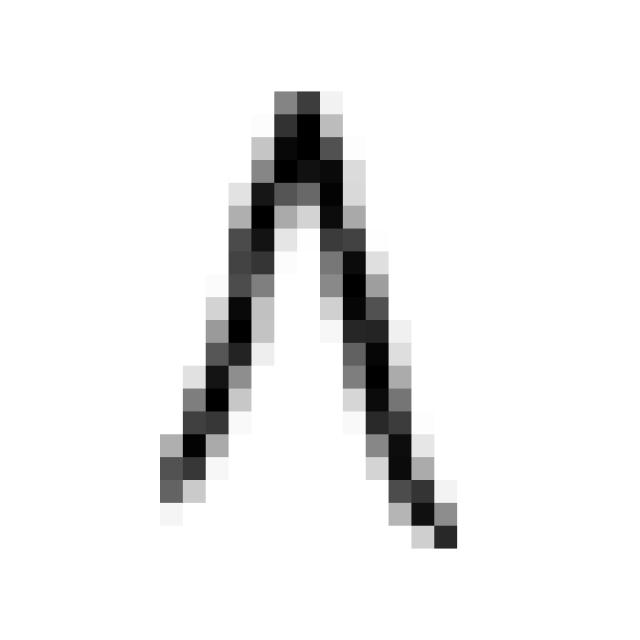8 -eight-: (135, 73, 473, 573)
